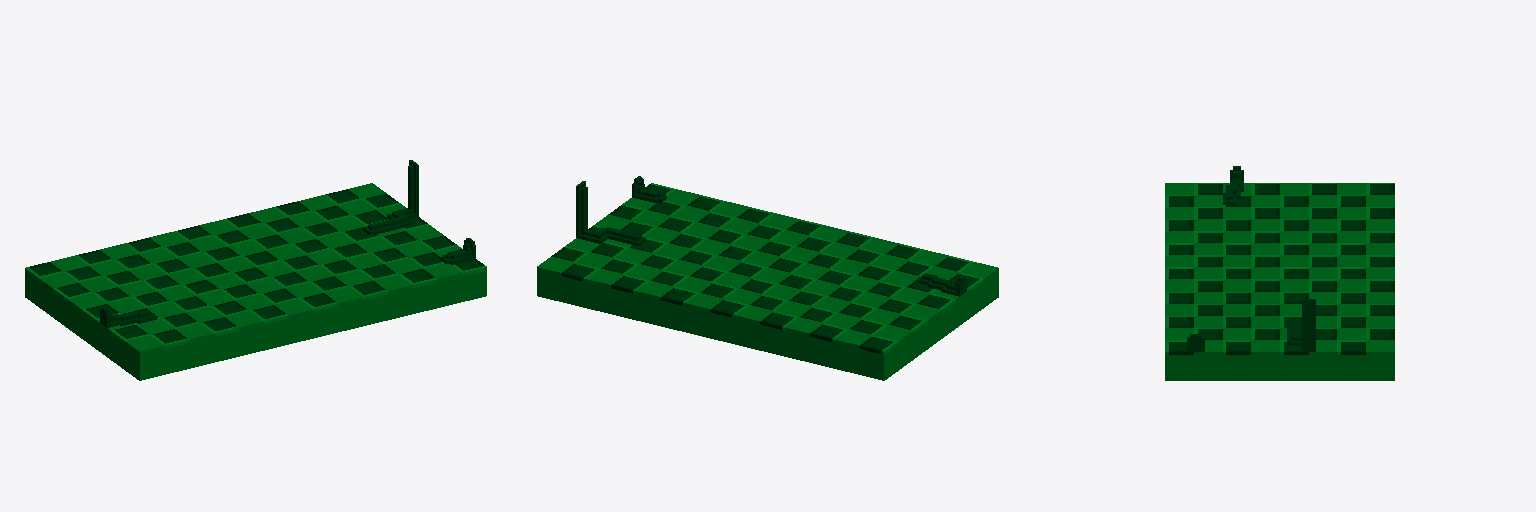
3 views of the same model, side by side, from view 1: azimuth 30°, elevation 25°; view 2: azimuth 150°, elevation 25°; view 3: azimuth 270°, elevation 25° (orthographic).
Parts seen in each view (by area): view 1: object 1; view 2: object 1; view 3: object 1.
Boxes of the visible parts, box(x1,y1,x2,y2) form: object 1: box(25, 160, 486, 380); object 1: box(537, 176, 998, 380); object 1: box(1165, 166, 1394, 380).
Size of the model in its own units: 11.2 by 2.5 by 6.4.
1 materials, 1 textured.